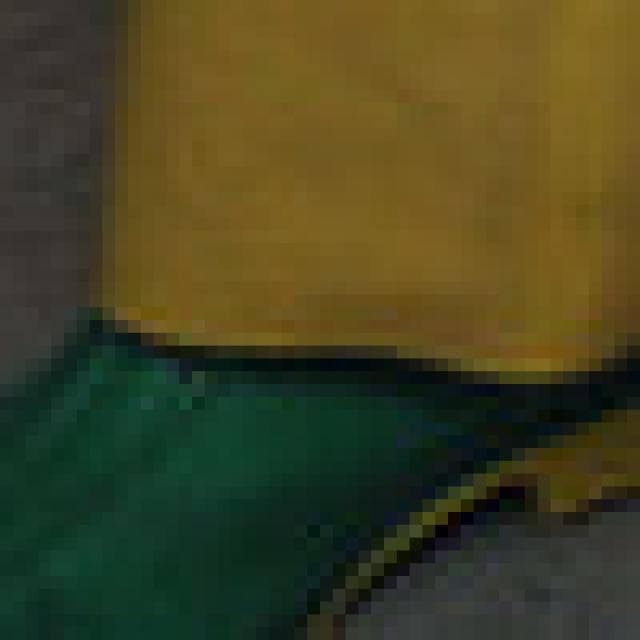no_fire: (0, 11, 640, 618)
